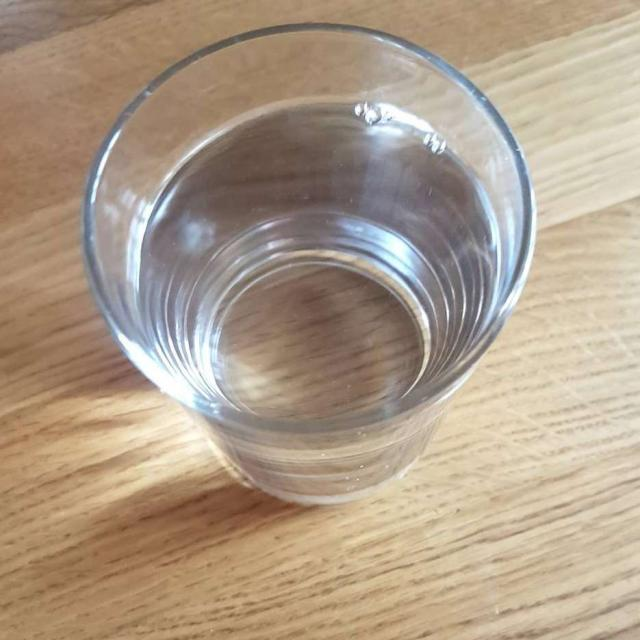water: (137, 104, 522, 494)
